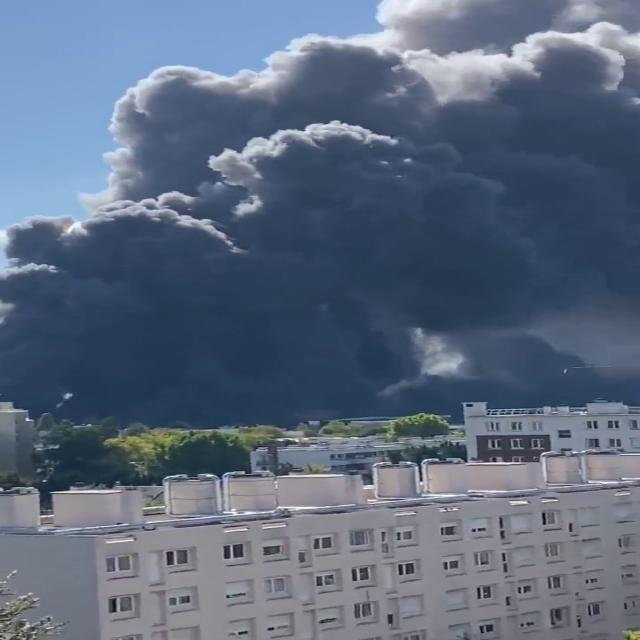Smoke: (0, 0, 640, 417)
